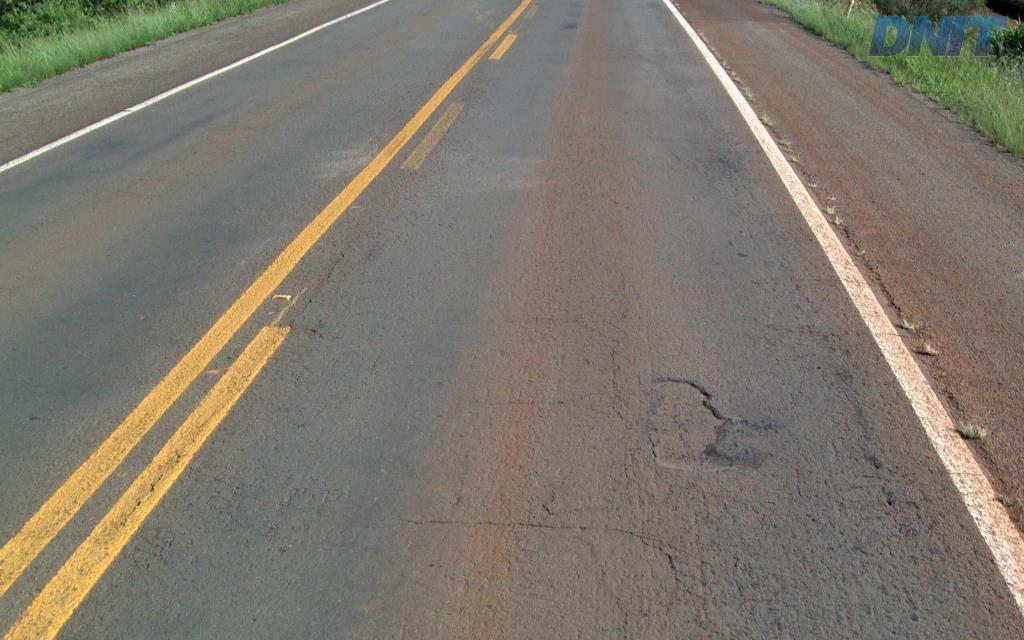pothole: (642, 373, 741, 483)
